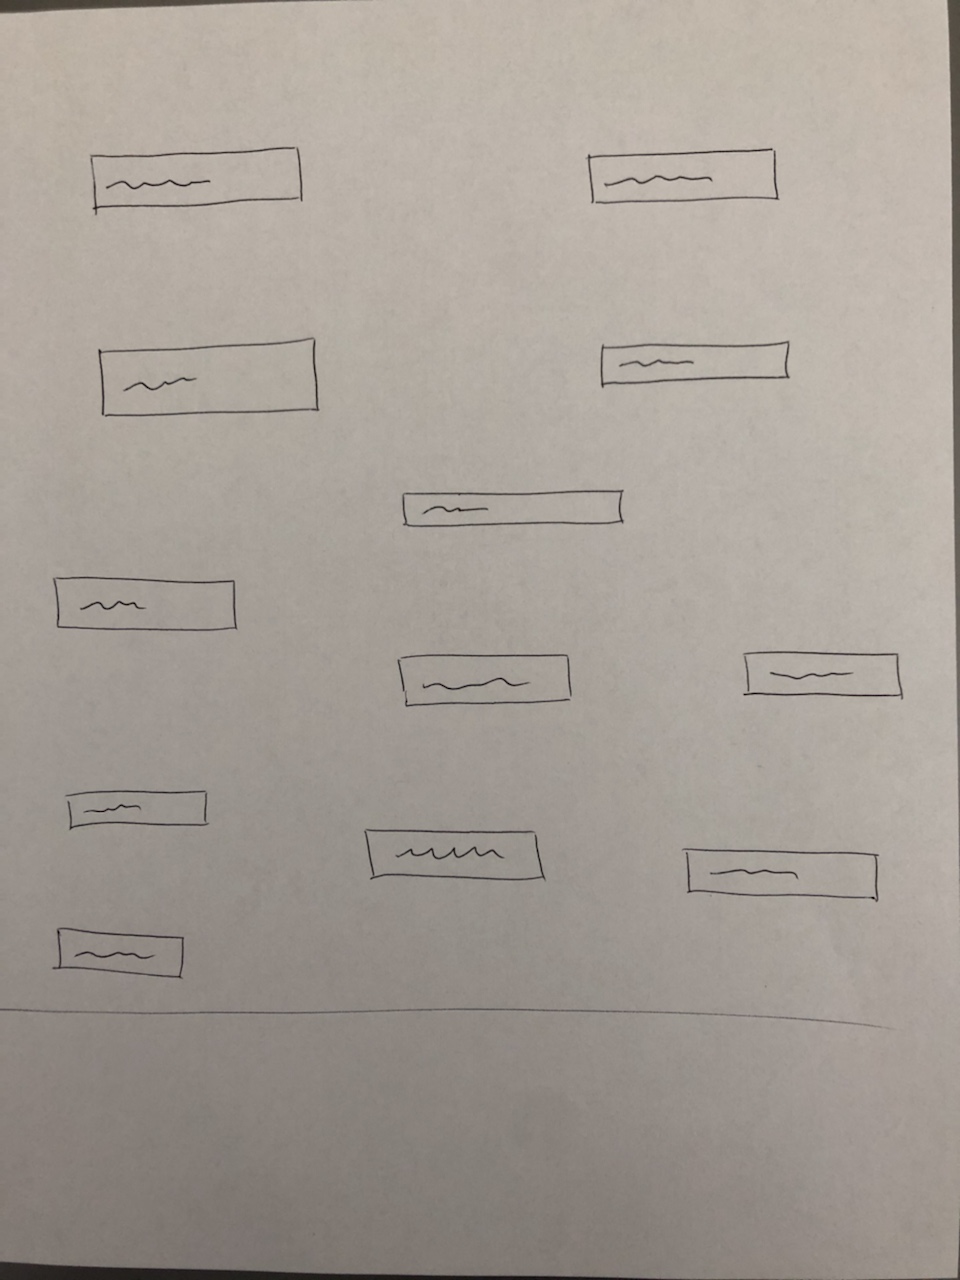input: (91, 335, 327, 417), (674, 836, 889, 912), (86, 145, 306, 213), (582, 141, 786, 213), (358, 818, 552, 893), (46, 568, 243, 641), (389, 640, 578, 710), (734, 638, 910, 710), (394, 481, 632, 533), (594, 333, 792, 388), (51, 919, 194, 986), (59, 779, 214, 836)
